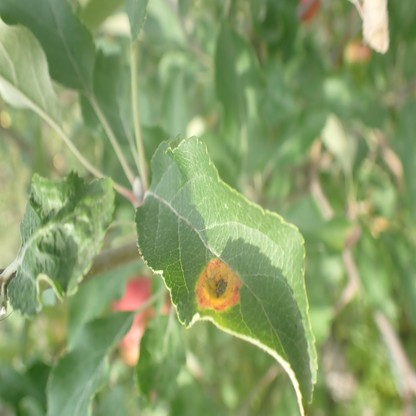rust: (194, 260, 242, 310)
